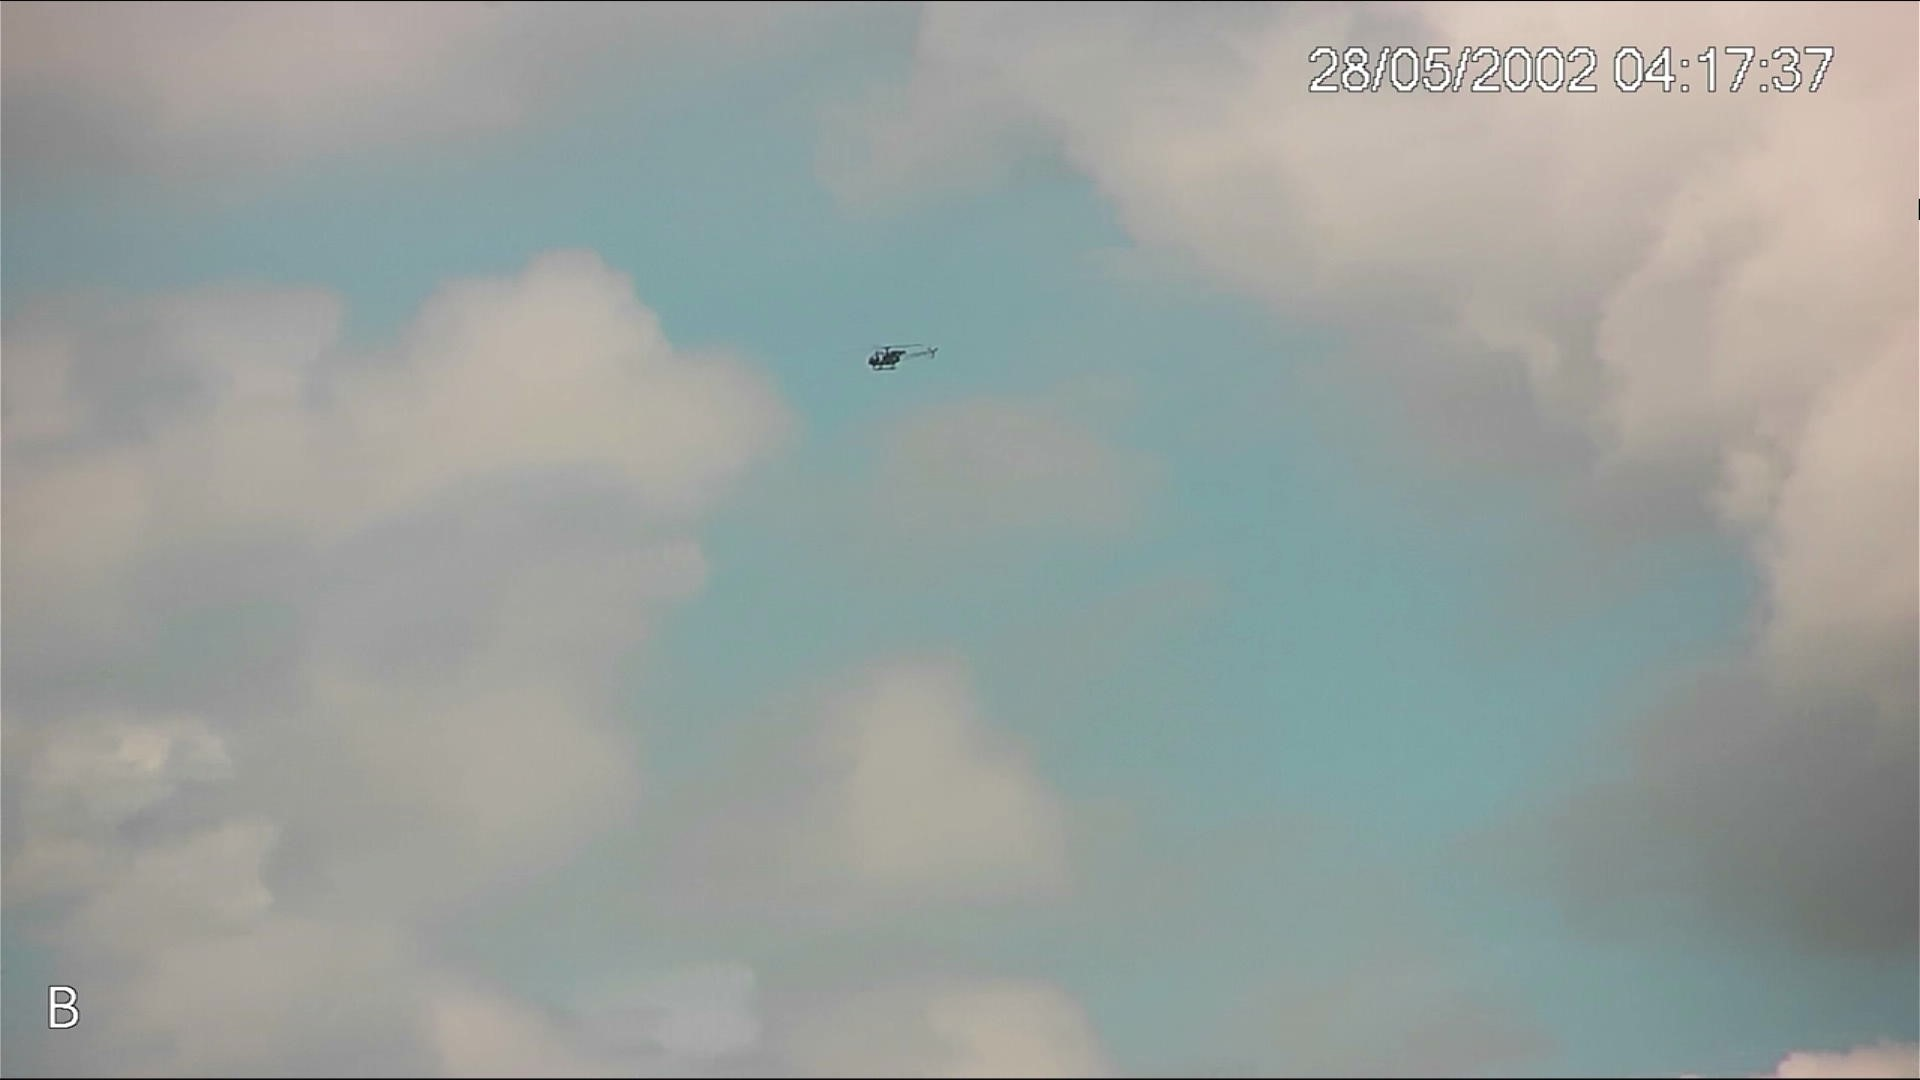SU_30: (866, 345, 940, 373)
